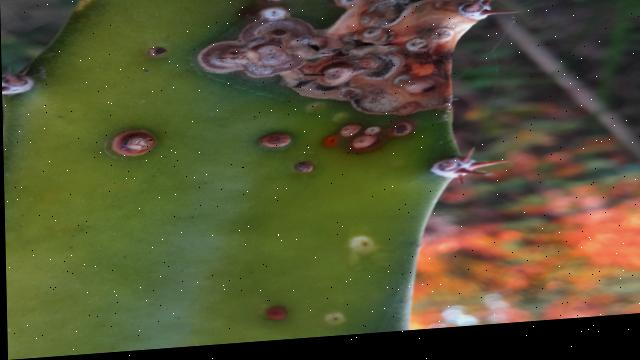stemcanker: (72, 116, 421, 336)
